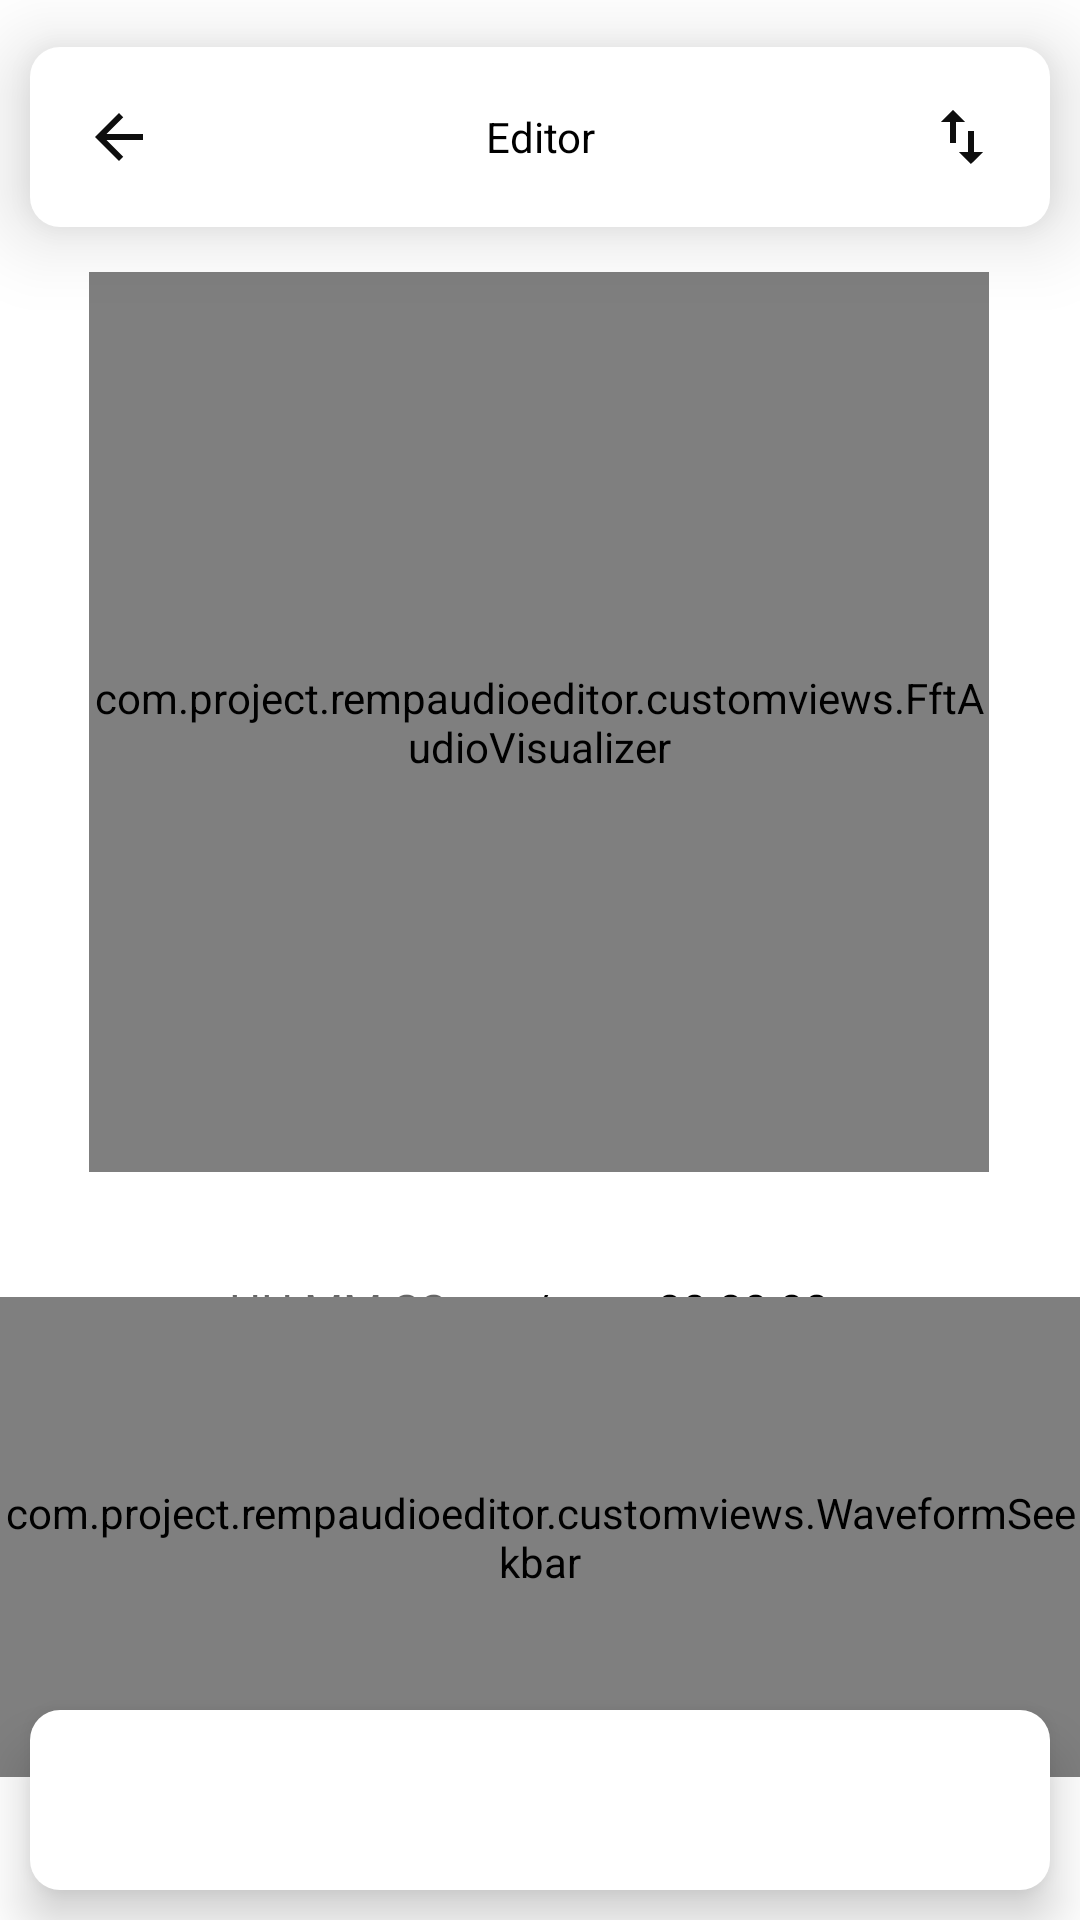

Icon click points for this 1080*1920 phone screenshot, format [x,y]:
arrow back: [119,137]
